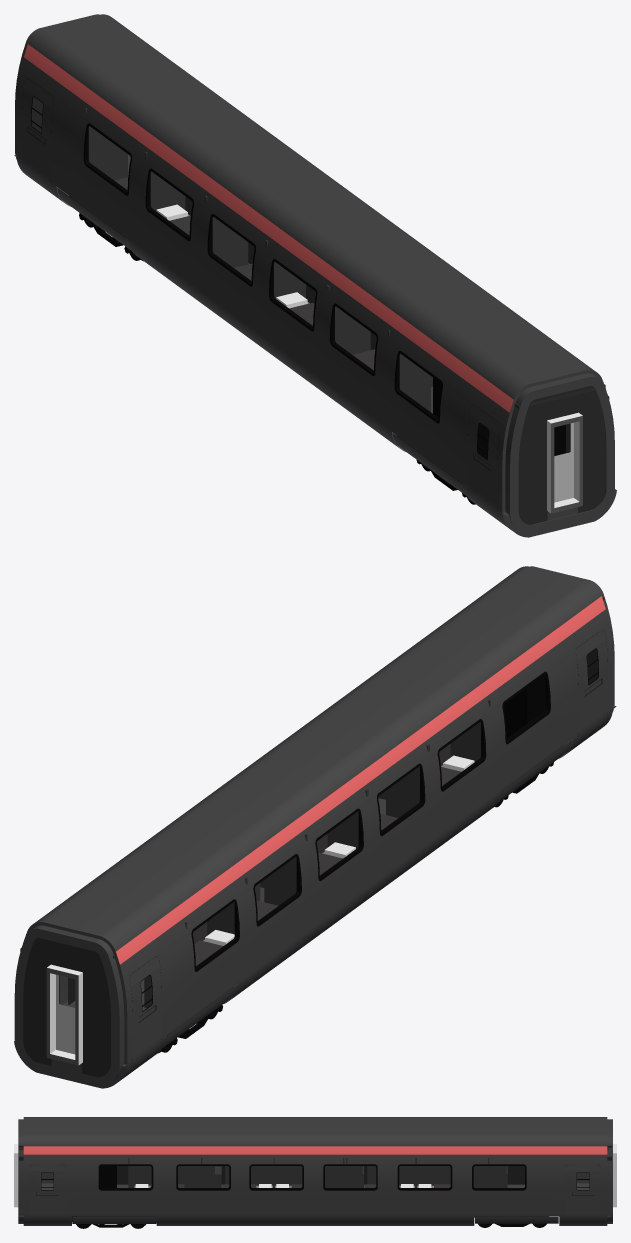
Rendered from hs_sleeper-car.glb.
The picture shows the model from 3 angles, top to bottom: view 1: azimuth 30°, elevation 25°; view 2: azimuth 150°, elevation 25°; view 3: azimuth 270°, elevation 25°; orthographic projection. The views are drawn at different scales.
Visible parts, largest first — view 1: instance_147, Box (×4), Box_8 (×6), group_0, mesh_10_instance_1, mesh_10_instance_0, mesh_14_instance_0, mesh_14_instance_5, mesh_14_instance_1, mesh_14_instance_2; view 2: instance_147, Box (×5), Box_8 (×4), group_0, mesh_10_instance_1, mesh_10_instance_0, Box_5, mesh_14_instance_0, mesh_14_instance_1, mesh_14_instance_2, mesh_14_instance_5, mesh_14_instance_3; view 3: instance_147, Box_8 (×8), mesh_10_instance_2, mesh_10_instance_3, Box, mesh_1_instance_0, mesh_1_instance_1, group_0 (×2), mesh_16_instance_0, mesh_16_instance_4, Box_4, mesh_16_instance_2 (+3 smaller).
Boxes of the visible parts, bbox=[...] form: instance_147: bbox=[14, 14, 616, 537]; Box (×4): bbox=[518, 389, 609, 524]; Box_8 (×6): bbox=[85, 108, 430, 411]; group_0: bbox=[547, 412, 582, 513]; mesh_10_instance_1: bbox=[22, 78, 53, 189]; mesh_10_instance_0: bbox=[468, 404, 499, 516]; mesh_14_instance_0: bbox=[83, 123, 131, 195]; mesh_14_instance_5: bbox=[394, 351, 442, 423]; mesh_14_instance_1: bbox=[145, 168, 193, 241]; mesh_14_instance_2: bbox=[207, 214, 255, 286]; instance_147: bbox=[14, 566, 616, 1088]; Box (×5): bbox=[20, 933, 110, 1077]; Box_8 (×4): bbox=[264, 700, 490, 905]; group_0: bbox=[46, 964, 82, 1065]; mesh_10_instance_1: bbox=[130, 956, 161, 1067]; mesh_10_instance_0: bbox=[576, 630, 607, 741]; Box_5: bbox=[504, 674, 545, 738]; mesh_14_instance_0: bbox=[191, 899, 239, 971]; mesh_14_instance_1: bbox=[253, 854, 301, 926]; mesh_14_instance_2: bbox=[315, 808, 363, 881]; mesh_14_instance_5: bbox=[502, 671, 550, 744]; mesh_14_instance_3: bbox=[377, 763, 425, 836]; instance_147: bbox=[18, 1117, 612, 1225]; Box_8 (×8): bbox=[129, 1166, 506, 1187]; mesh_10_instance_2: bbox=[565, 1164, 600, 1220]; mesh_10_instance_3: bbox=[30, 1164, 64, 1220]; Box: bbox=[117, 1166, 524, 1184]; mesh_1_instance_0: bbox=[72, 1217, 156, 1223]; mesh_1_instance_1: bbox=[475, 1217, 558, 1223]; group_0 (×2): bbox=[14, 1144, 616, 1207]; mesh_16_instance_0: bbox=[98, 1164, 153, 1190]; mesh_16_instance_4: bbox=[397, 1164, 452, 1190]; Box_4: bbox=[72, 1166, 116, 1221]; mesh_16_instance_2: bbox=[249, 1164, 303, 1190].
Size of the model in its own units: 3.5 by 4.71 by 27.38.
